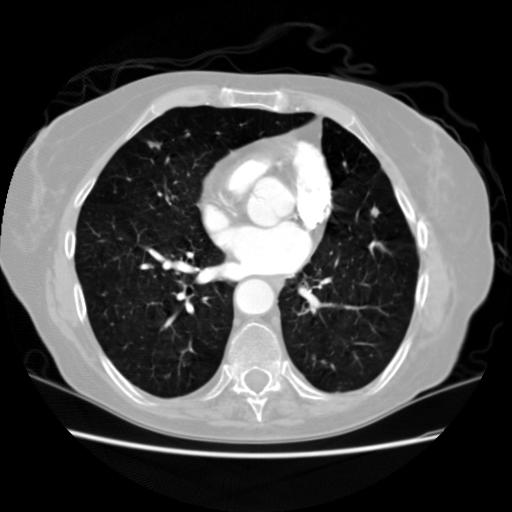nodule: (148, 137, 160, 149)
